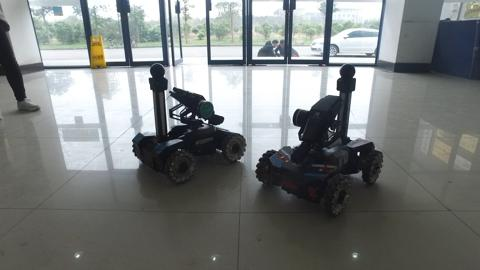chariot: (260, 55, 397, 220), (108, 58, 248, 186)
